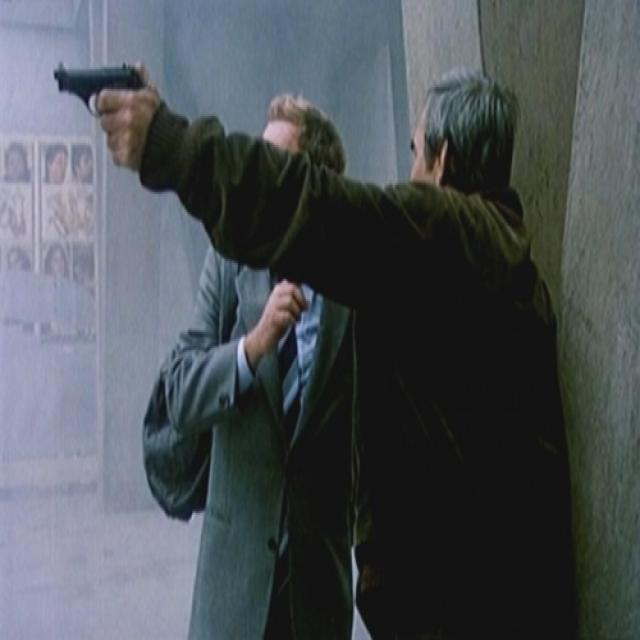weapons: (46, 38, 157, 164)
